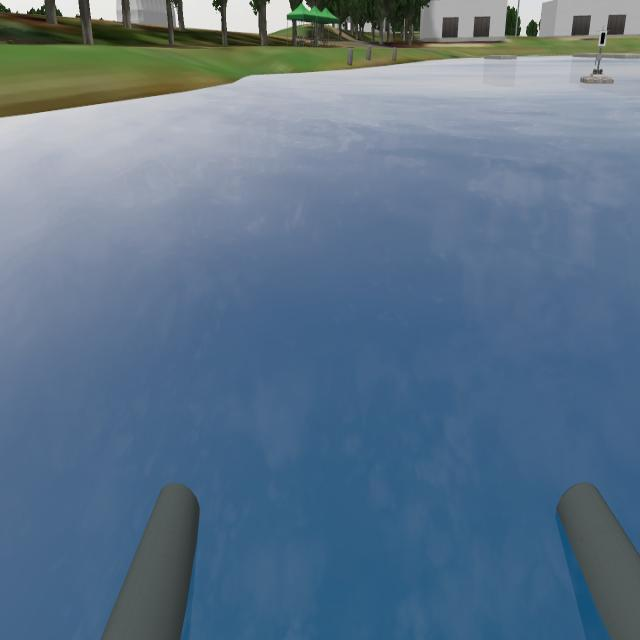black_pole: (592, 25, 613, 56)
